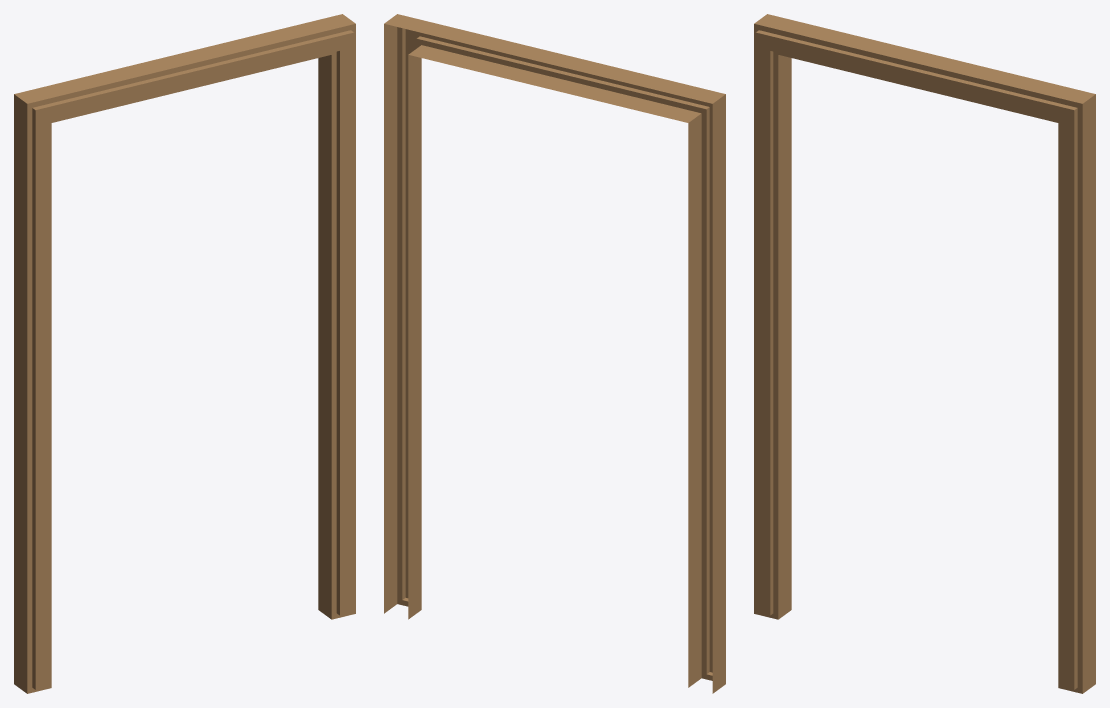
The model's file is SM_DoorFrame.FBX.
3 renders of one model, left to right at view 1: azimuth 30°, elevation 25°; view 2: azimuth 150°, elevation 25°; view 3: azimuth 330°, elevation 25°, orthographic.
Parts seen in each view (by area): view 1: Box001; view 2: Box001; view 3: Box001.
Boxes of the visible parts, x1,y1,x2,y2 form: Box001: [14, 14, 355, 693]; Box001: [384, 14, 725, 693]; Box001: [754, 14, 1095, 693].
Bounding box in the file's own units: 67.82 × 116 × 5.91.
